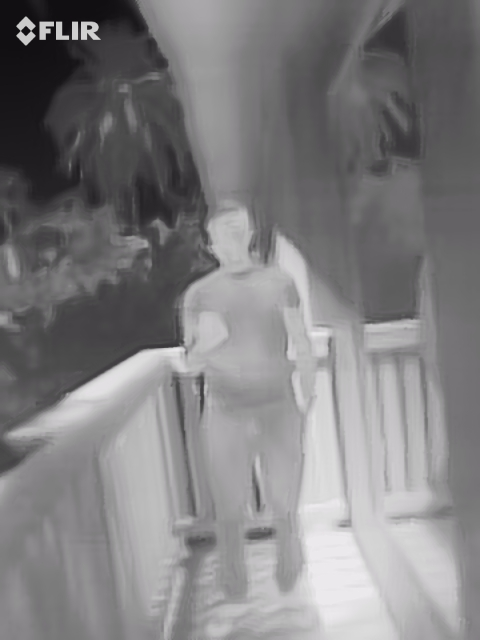head: (205, 200, 254, 260)
